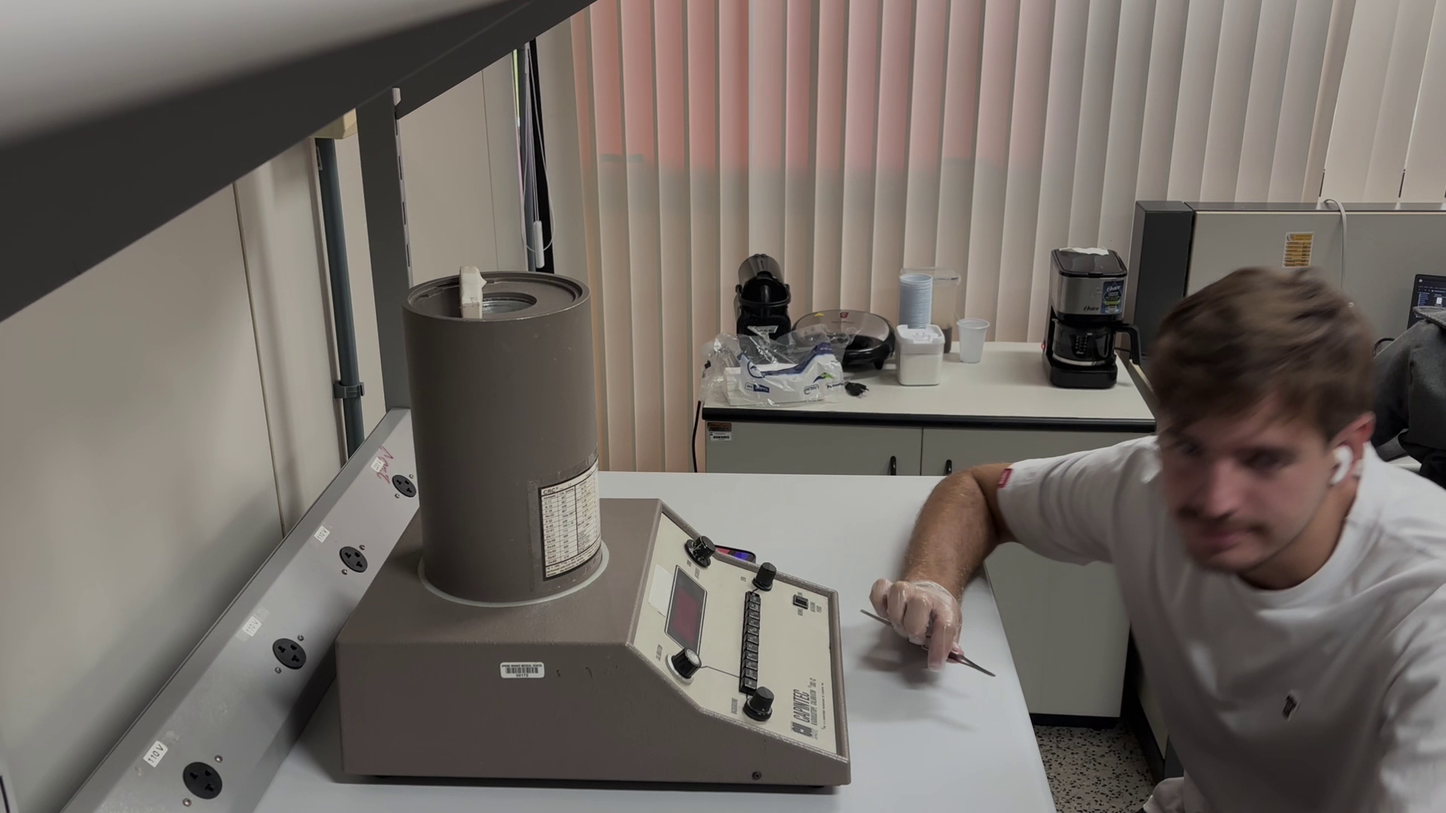Ativimetro: (398, 267, 609, 606)
Com_Luva: (869, 573, 966, 674)
